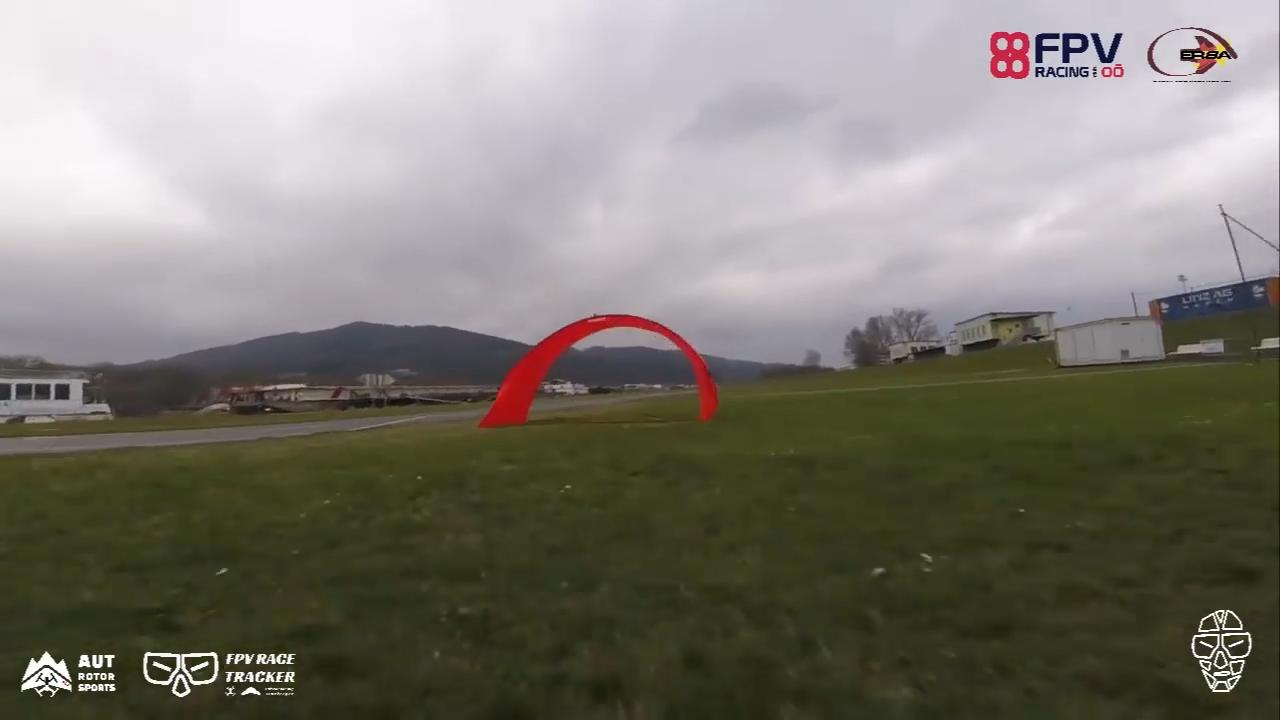gate: (472, 309, 727, 432)
